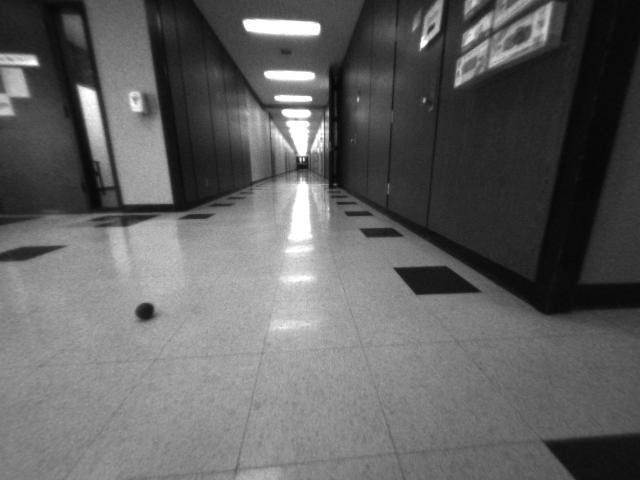dogtoy: (126, 288, 163, 328)
